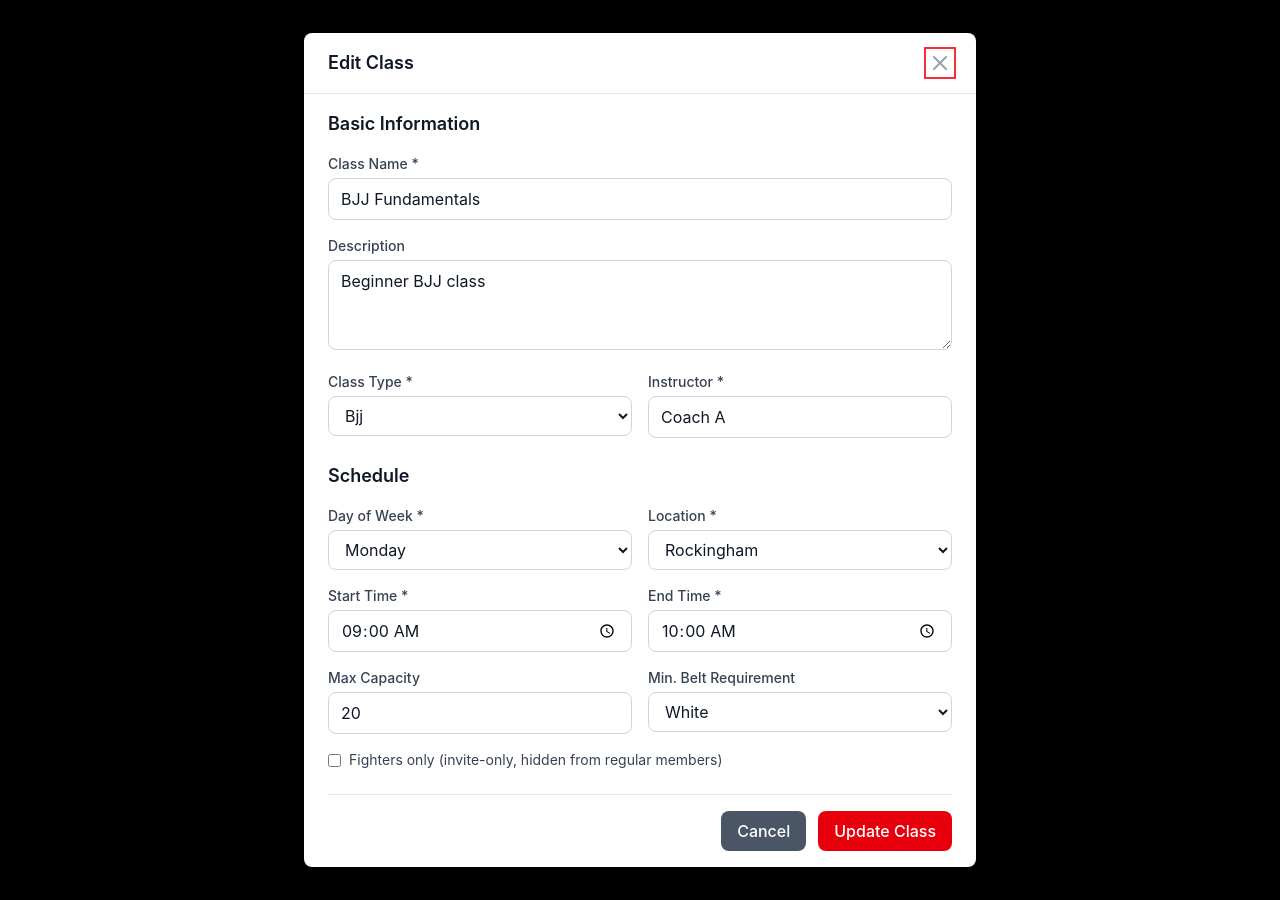
EditClassModal › shows validation errors on invalid submit
The width and height of the screenshot is (1280, 900).
Clear the field named "name" below "Class Name *" at (640, 199), box top-left (328, 178), bottom-right (952, 220)
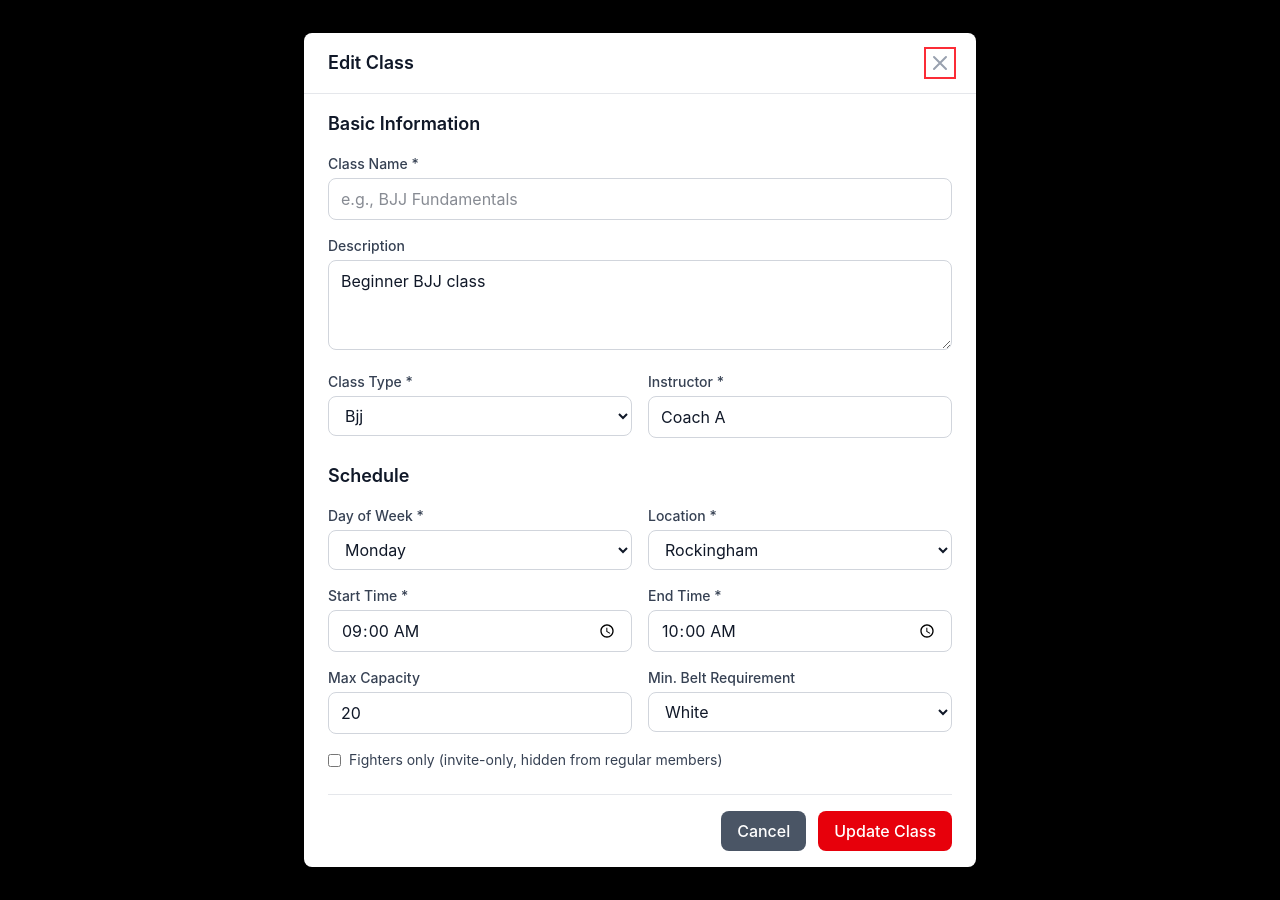
Click the button "Update Class".
click(885, 831)  # box top-left (818, 811), bottom-right (952, 851)
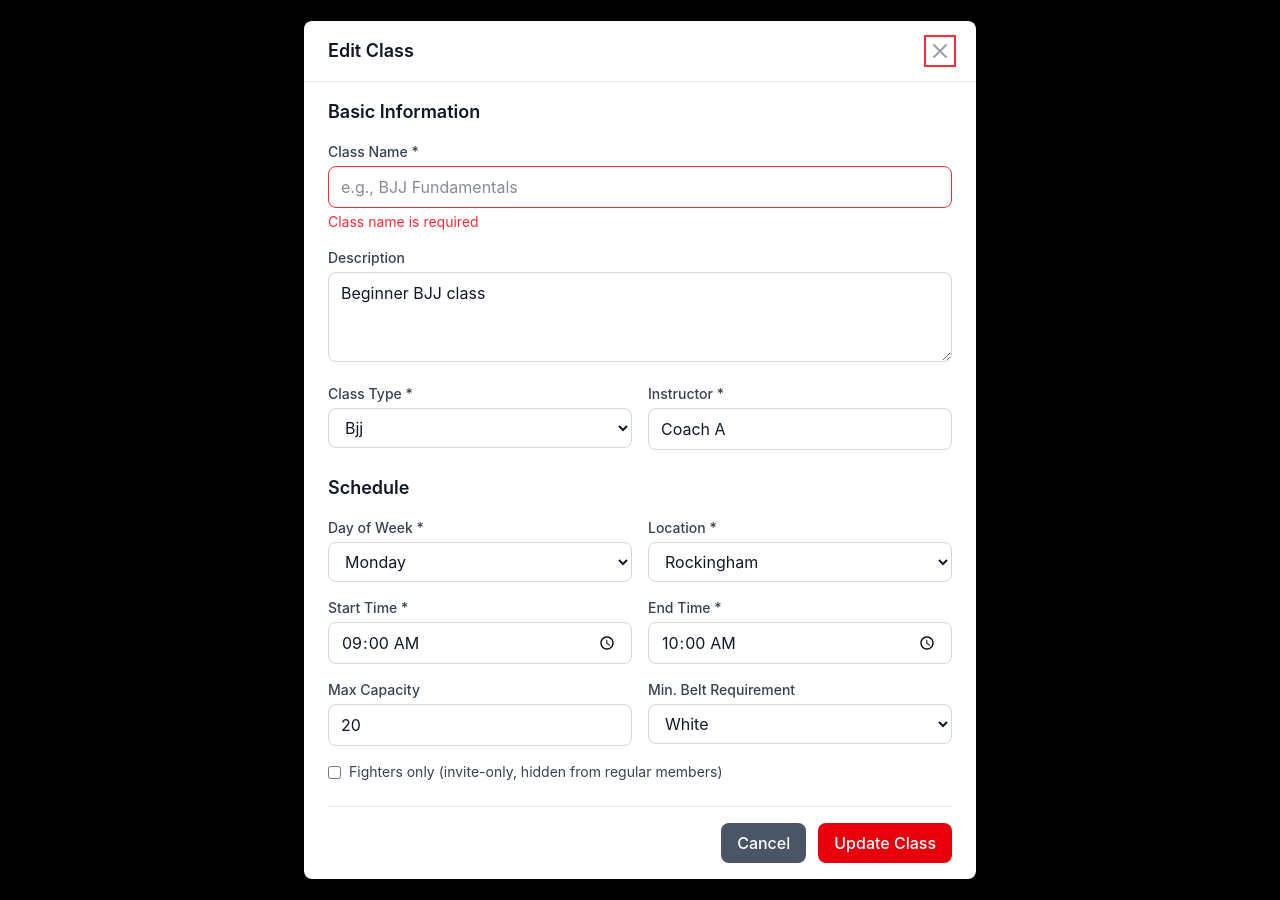
Now the text "Class name is required" is shown, box top-left (328, 213), bottom-right (479, 230)
